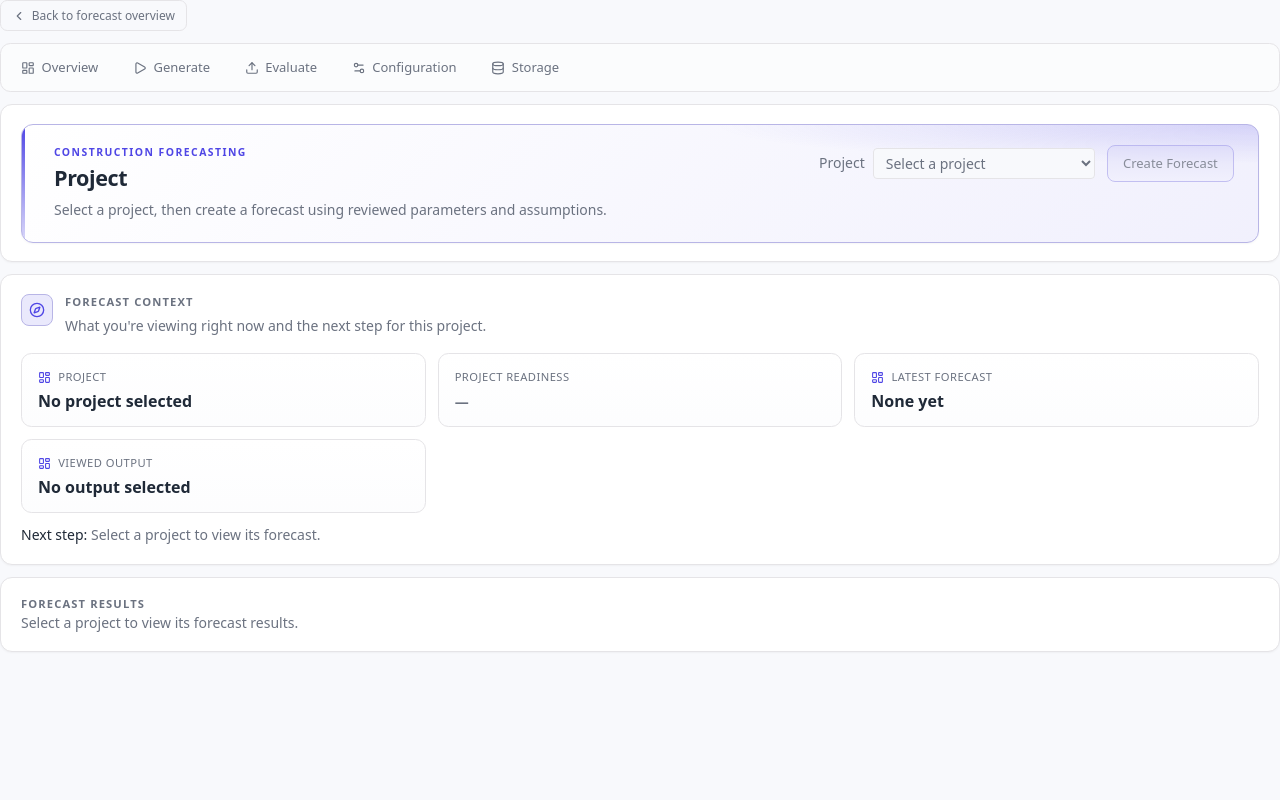
Test case: ForecastRunCenterPage layout + Create Forecast modal › honestly rejects a request_status="rejected" response
The image size is (1280, 800).
Select "Tropical Resort" in the dropdown named "Forecast project" at (984, 163), box [873,148,1095,179]
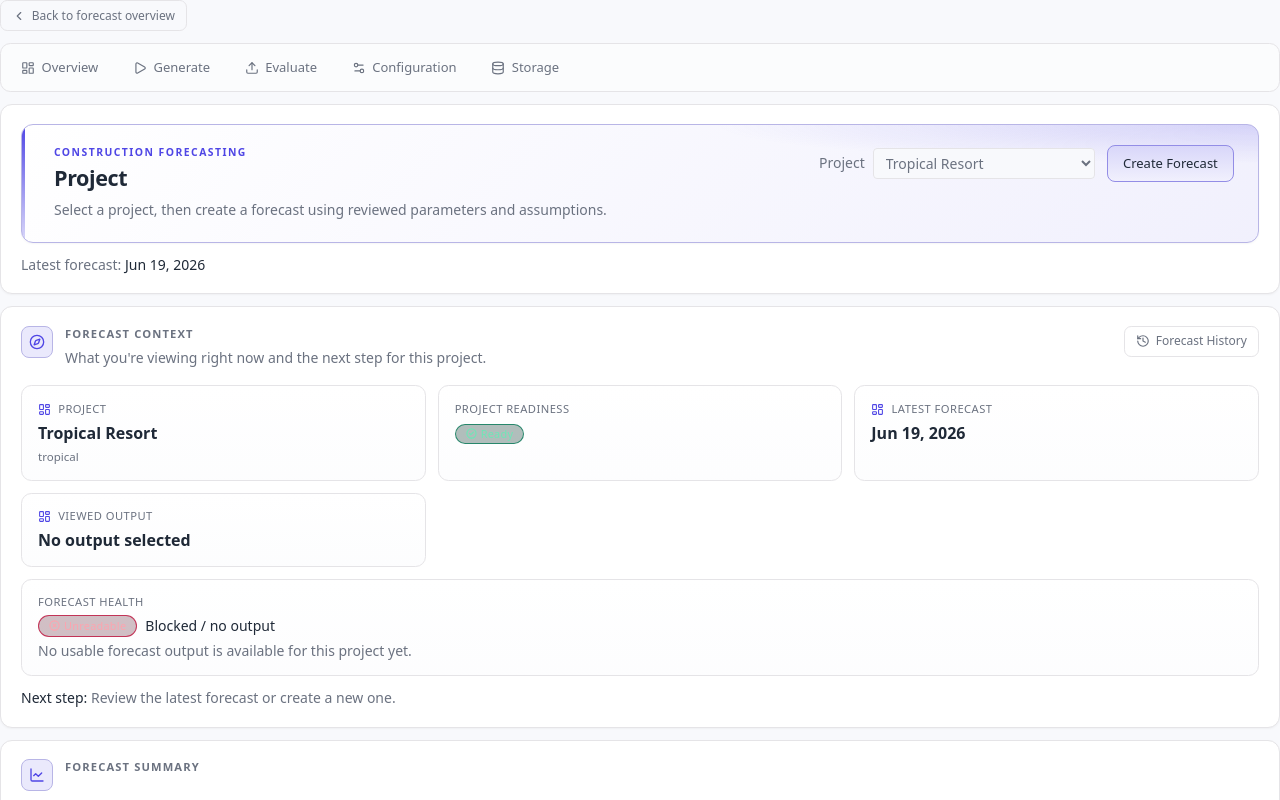
Click the button "Create Forecast" at (1170, 163), box [1107,145,1234,182]
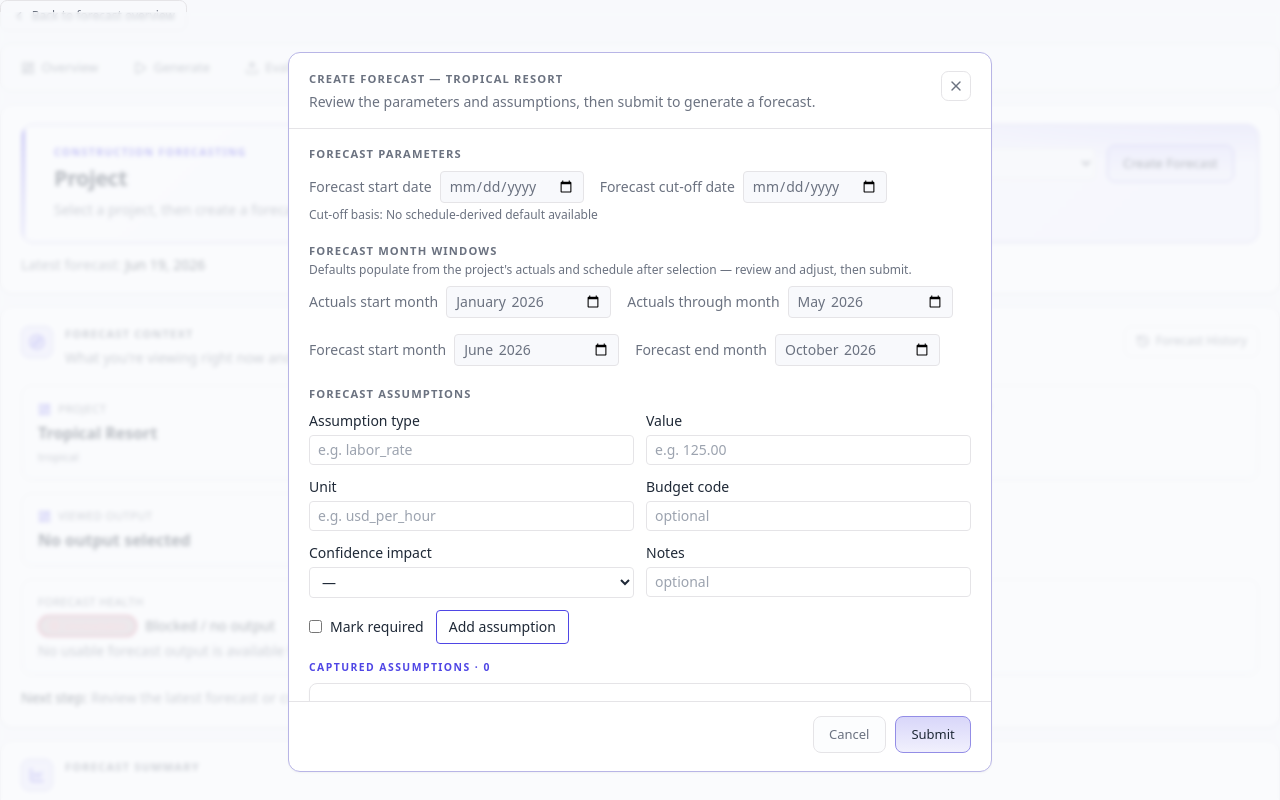
Click the button "Submit" at (933, 735), box [895,716,971,753]
(page scrolled)
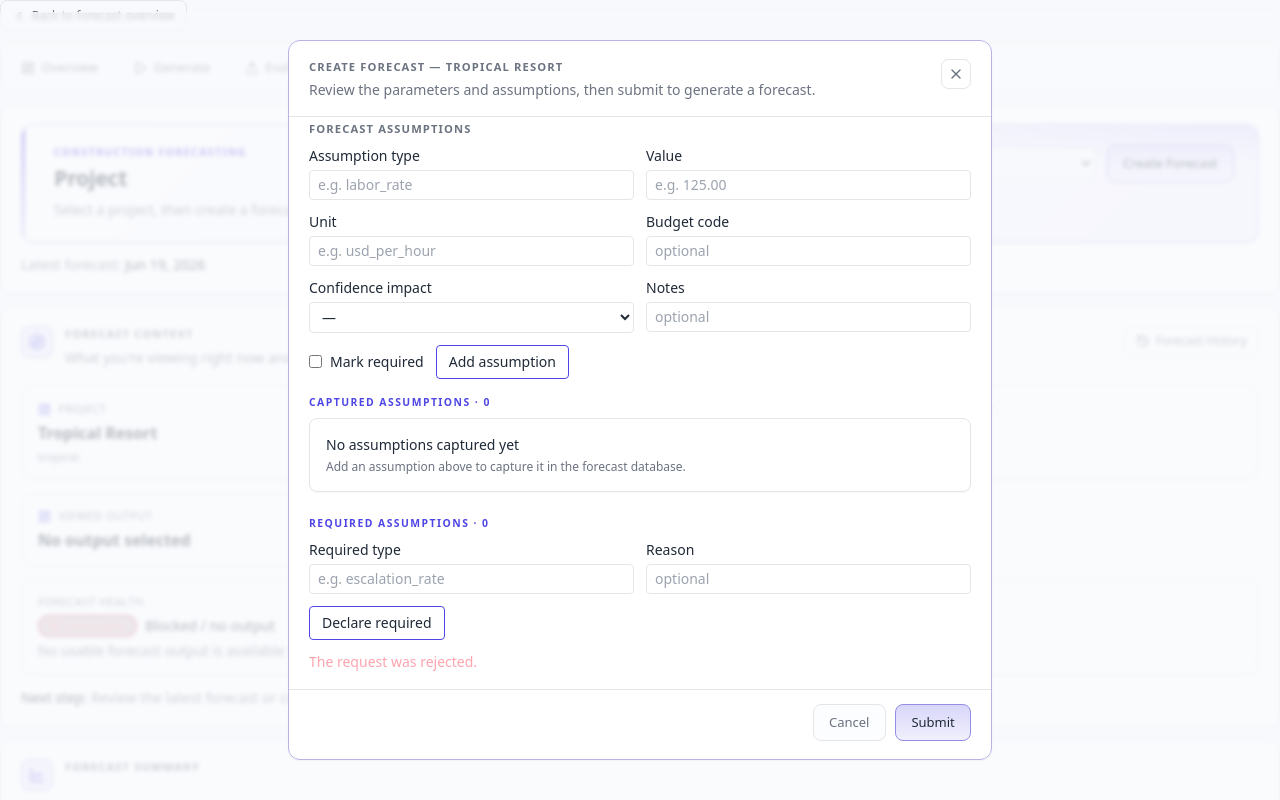
Now the text "The request was rejected." is shown, box [309,652,477,671]
